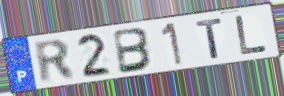1: (160, 21, 184, 67)
2: (76, 31, 114, 80)
B: (112, 26, 155, 76)
L: (233, 13, 270, 57)
R: (31, 38, 79, 86)
T: (194, 17, 225, 61)
